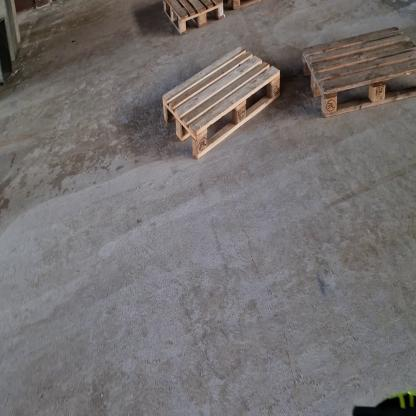BoxFace: (160, 42, 283, 167), (298, 21, 416, 129), (159, 0, 228, 39)
